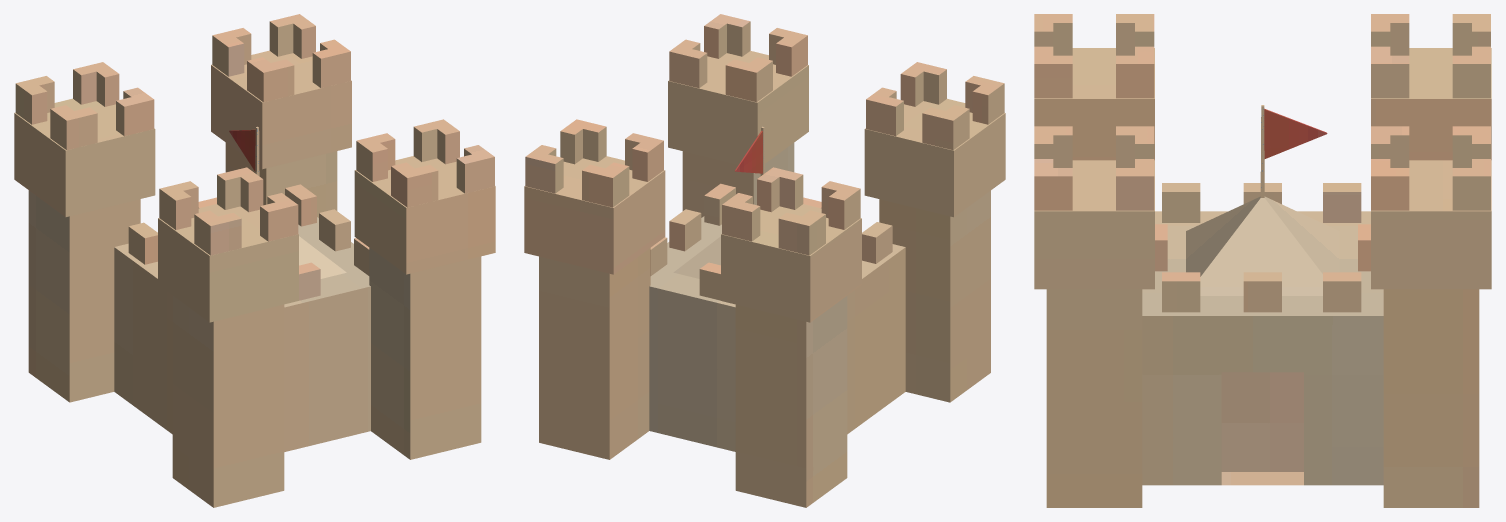
The model's file is 8PJfF1Q0B7T.glb.
The picture shows the model from 3 angles, left to right: view 1: azimuth 30°, elevation 25°; view 2: azimuth 150°, elevation 25°; view 3: azimuth 270°, elevation 25°; orthographic projection. The views are drawn at different scales.
Visible parts, largest first — view 1: Cube.014_Cube.019; view 2: Cube.014_Cube.019; view 3: Cube.014_Cube.019.
Part boxes in pixels (left/top/right/bottom): Cube.014_Cube.019: left=14, top=14, right=495, bottom=507; Cube.014_Cube.019: left=524, top=14, right=1005, bottom=507; Cube.014_Cube.019: left=1034, top=14, right=1491, bottom=507.
Bounding box in the file's own units: 1.04 × 1 × 1.23.
1 material, 1 textured.
